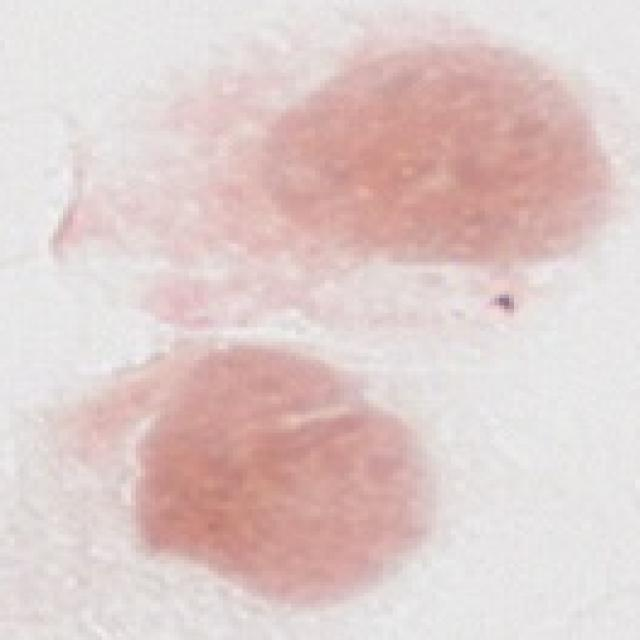cytoplasm: (0, 334, 635, 636)
nucleus: (99, 310, 478, 640), (254, 38, 620, 272)
